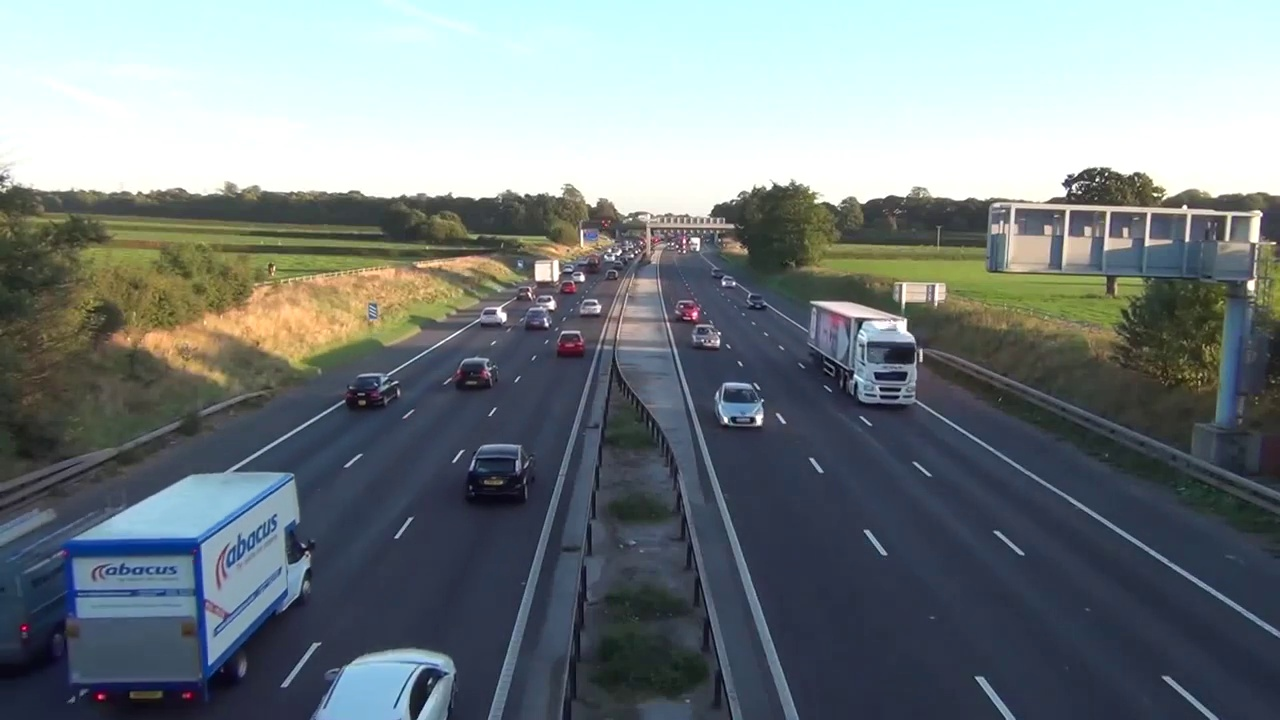bus: (310, 647, 459, 720), (465, 443, 536, 502), (713, 381, 765, 428), (346, 372, 402, 405), (455, 359, 499, 387), (556, 330, 586, 357), (692, 323, 722, 348), (525, 306, 554, 328), (675, 300, 701, 322), (480, 307, 507, 326), (745, 294, 767, 311), (580, 299, 601, 316), (535, 295, 558, 309), (515, 286, 533, 300), (721, 276, 738, 289), (560, 281, 576, 294)
car: (64, 472, 314, 701), (806, 298, 925, 406), (534, 259, 559, 287)
